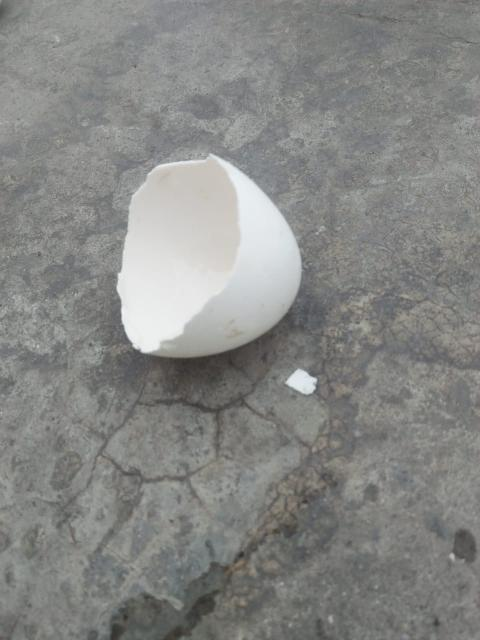Roto: (116, 152, 302, 359)
